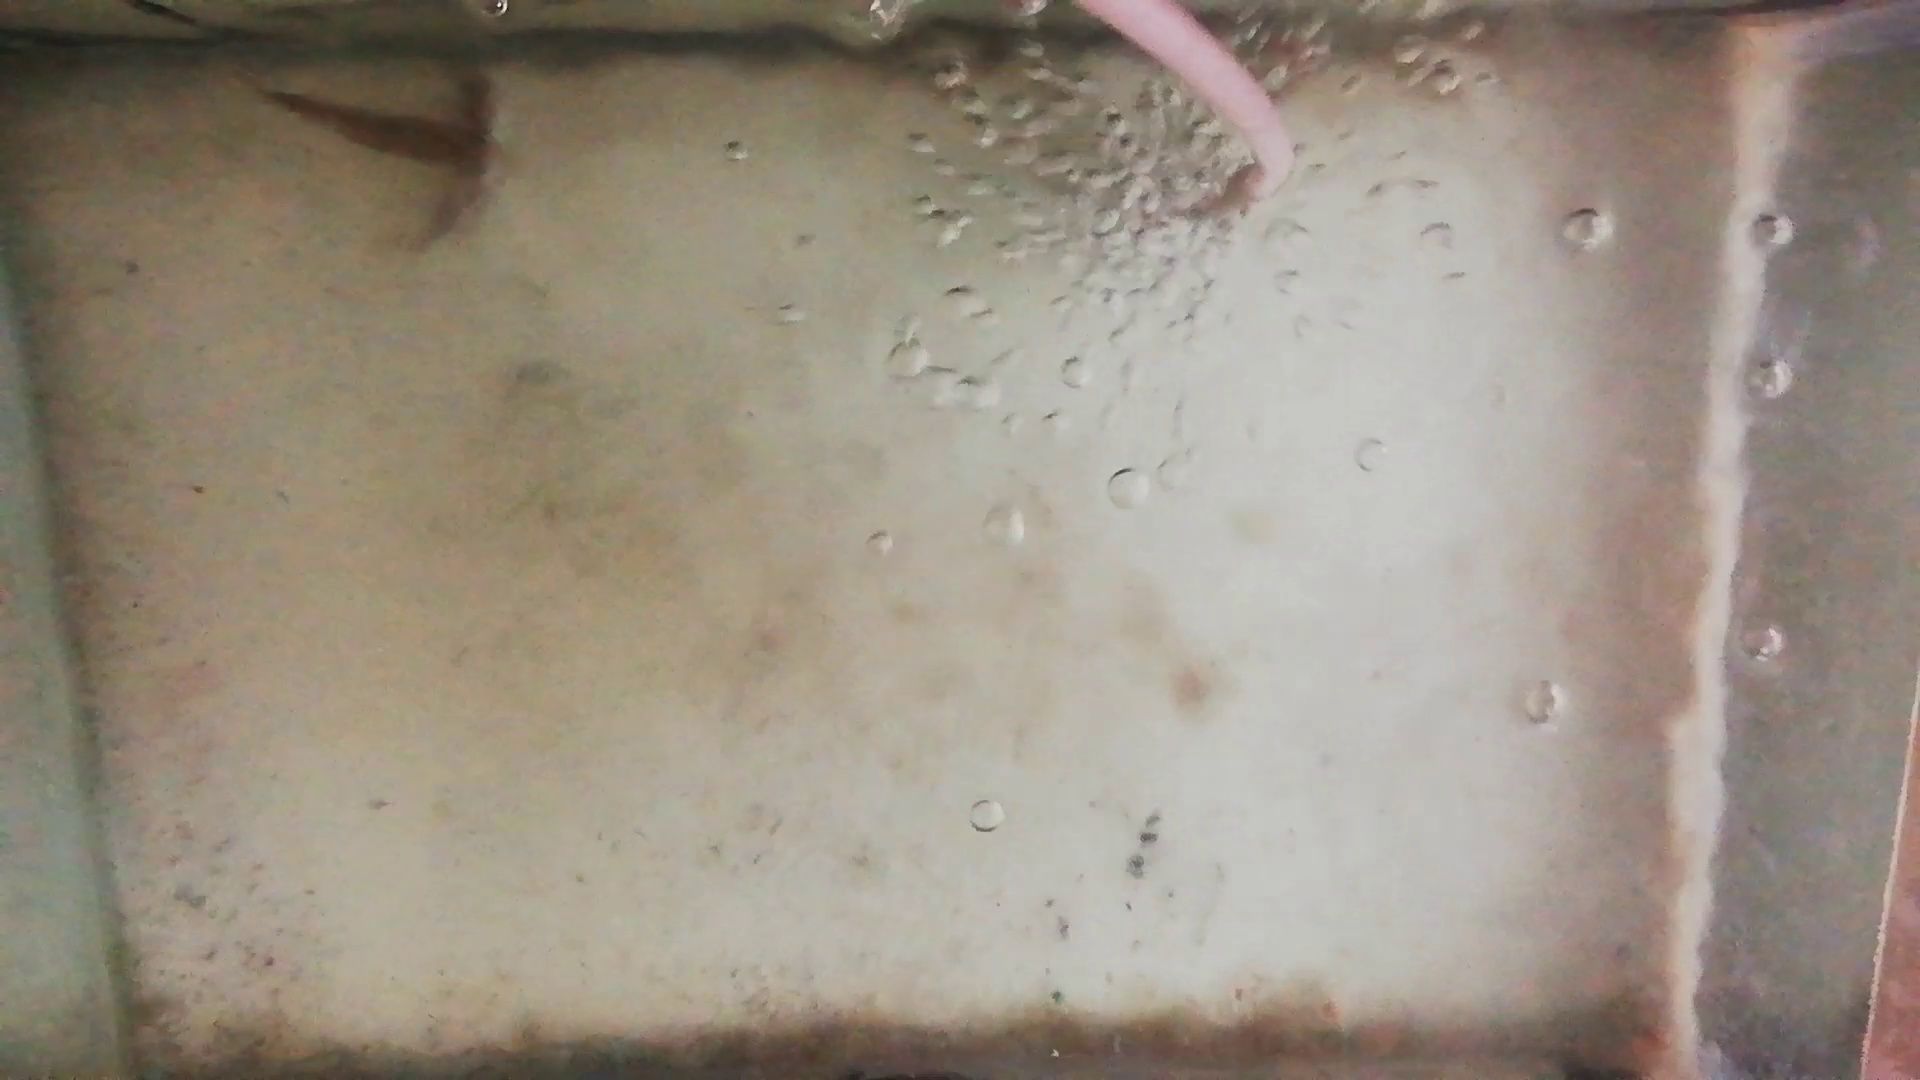fish: (251, 88, 463, 165), (436, 74, 497, 235)
